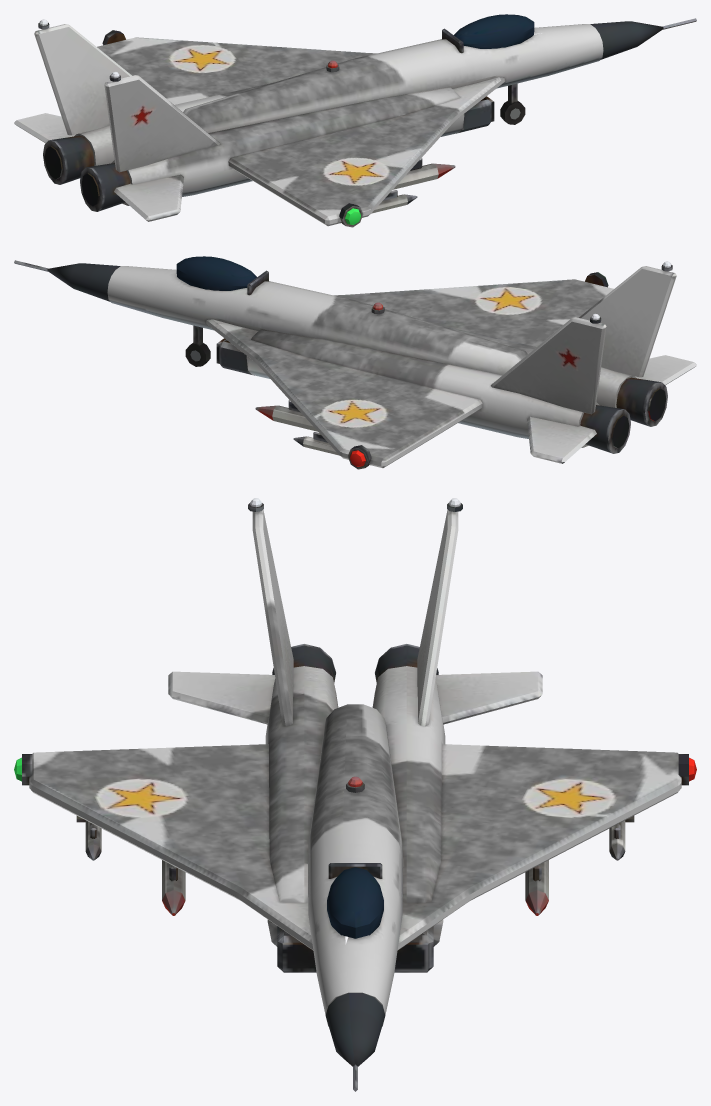
File: mig.soviet.glb
3 views of the same model, one above another, from view 1: azimuth 30°, elevation 25°; view 2: azimuth 150°, elevation 25°; view 3: azimuth 270°, elevation 25° (orthographic). The views are drawn at different scales.
Visible parts, largest first — view 1: root_mesh; view 2: root_mesh; view 3: root_mesh.
Part boxes in pixels (x1,y1,x2,y2): root_mesh: [14, 14, 696, 227]; root_mesh: [14, 256, 696, 469]; root_mesh: [14, 498, 696, 1091].
Size of the model in its own units: 0.9393 by 0.2625 by 0.6389.
Materials: 2 (1 with a texture image).
